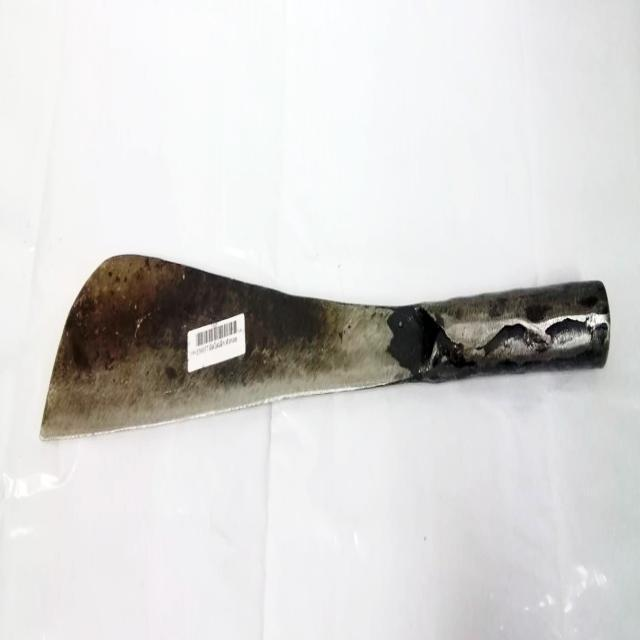eto: (33, 245, 618, 456)
